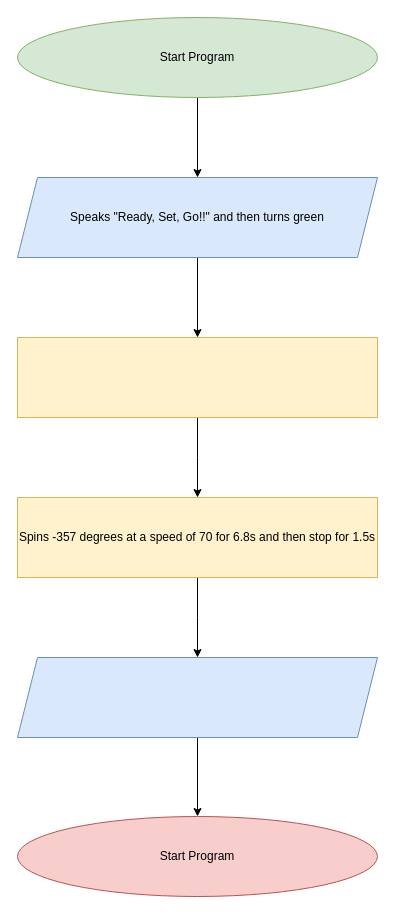
Some shapes in this 395 by 914 pixel diagram are drawn without their labels. The shapes that lost their labels are listed below. From the top down, each one's centre as x and y in pixels, then its label:
(x=197, y=377): Spins 357 degrees at a speed of 70 for 6.8s and then stop for 1.5s
(x=197, y=697): Turns red and speaks "I win!! Ha ha!!
